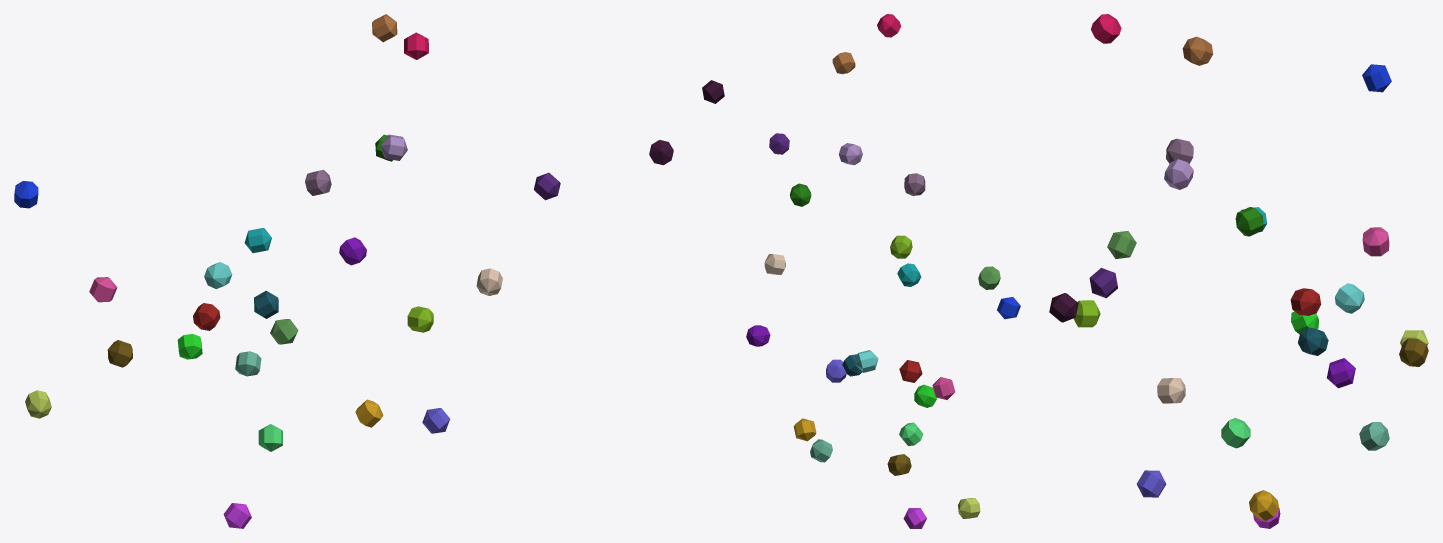
File: fg-00030-bone.obj
3 renders of one model, left to right at view 1: azimuth 30°, elevation 25°; view 2: azimuth 150°, elevation 25°; view 3: azimuth 270°, elevation 25°, orthographic. The views are drawn at different scales.
Bounding box in the file's own units: 0.2068 × 0.2006 × 0.1218.
